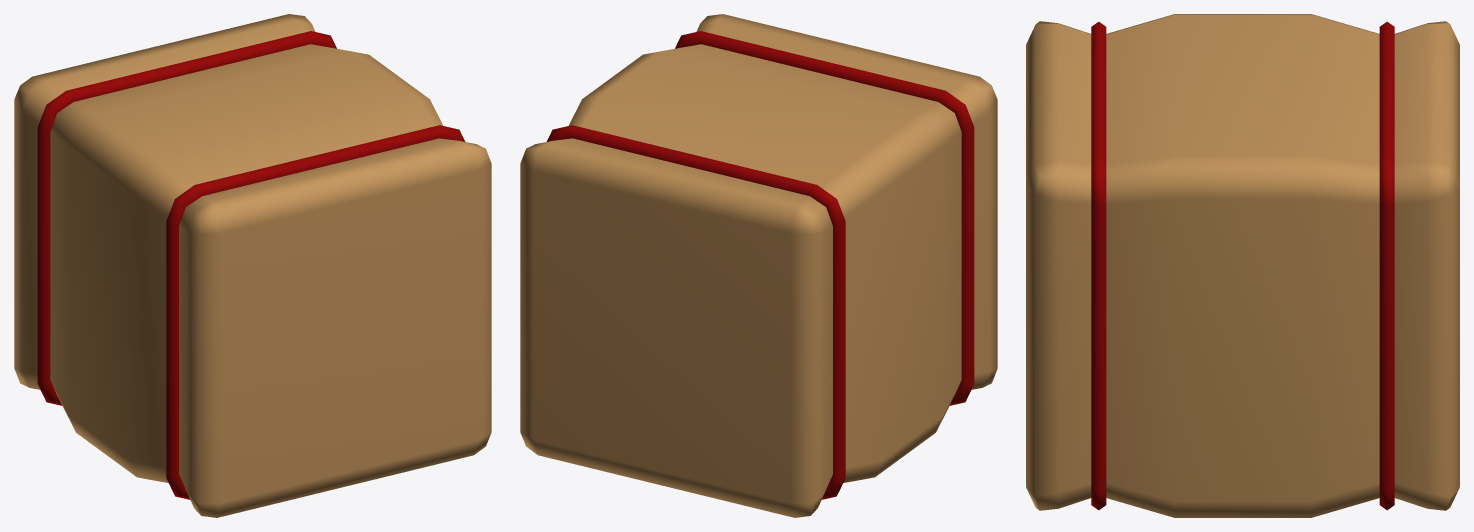
File: MSH_int_StrawRoll.fbx
3 renders of one model, left to right at view 1: azimuth 30°, elevation 25°; view 2: azimuth 150°, elevation 25°; view 3: azimuth 270°, elevation 25°, orthographic. The views are drawn at different scales.
Parts seen in each view (by area): view 1: Strawrollv2; view 2: Strawrollv2; view 3: Strawrollv2.
Part boxes in pixels (x1=…): Strawrollv2: x1=14, y1=14, x2=491, y2=517; Strawrollv2: x1=520, y1=14, x2=997, y2=517; Strawrollv2: x1=1026, y1=14, x2=1459, y2=517.
Bounding box in the file's own units: 2.97 × 2.97 × 3.23.
